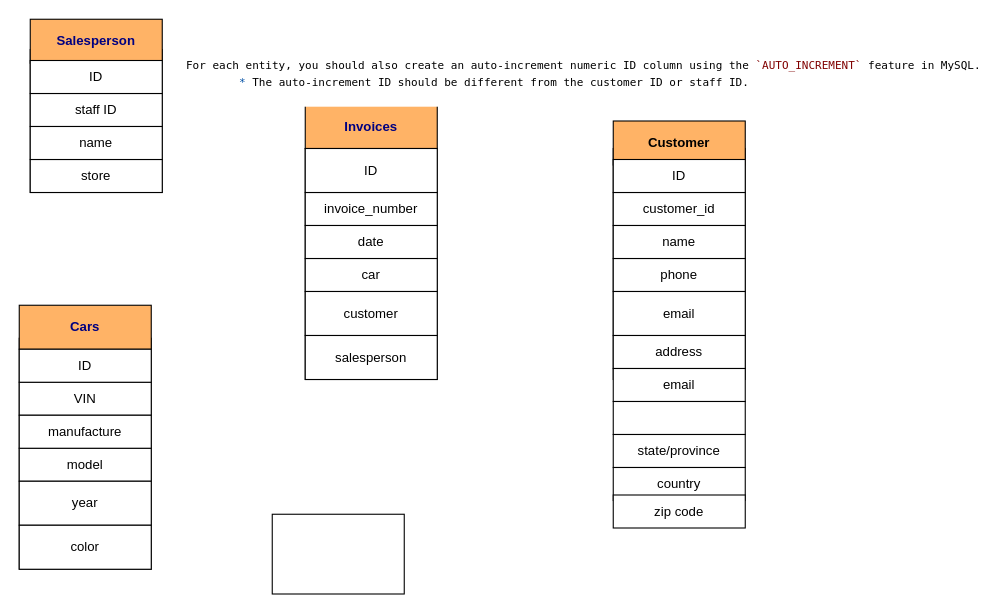
Image size: 1000x614. Some labels were removed from this diagram. The centre of each missing label's shape, as x and y in pixels:
"city" goes at [678,417].
"VARCHAR(20) SMALLINT(6) DATETIME INT(10) DECIMAL(4,2)" goes at [337,553].
